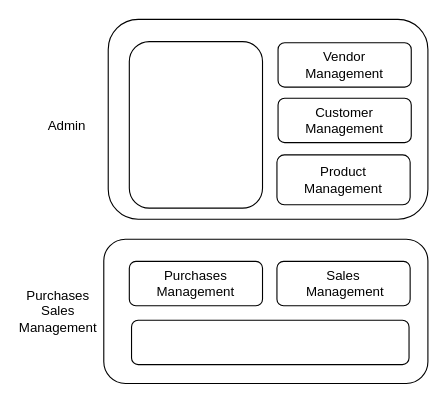
Image size: 447x403. Some labels were removed from this diagram. The centre of each missing label's shape, as x and y in pixels:
"Inventory Management" belongs at point 269,342.
"Tax Treatment" belongs at point 195,124.
